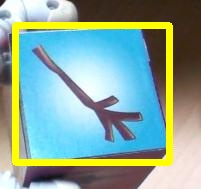Blue4: (15, 25, 169, 162)
